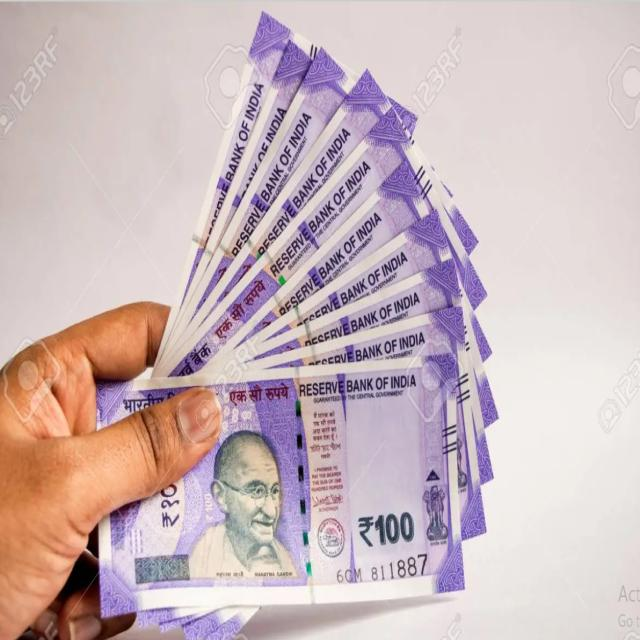100IndianRupees: (100, 353, 462, 609), (223, 371, 461, 601)
